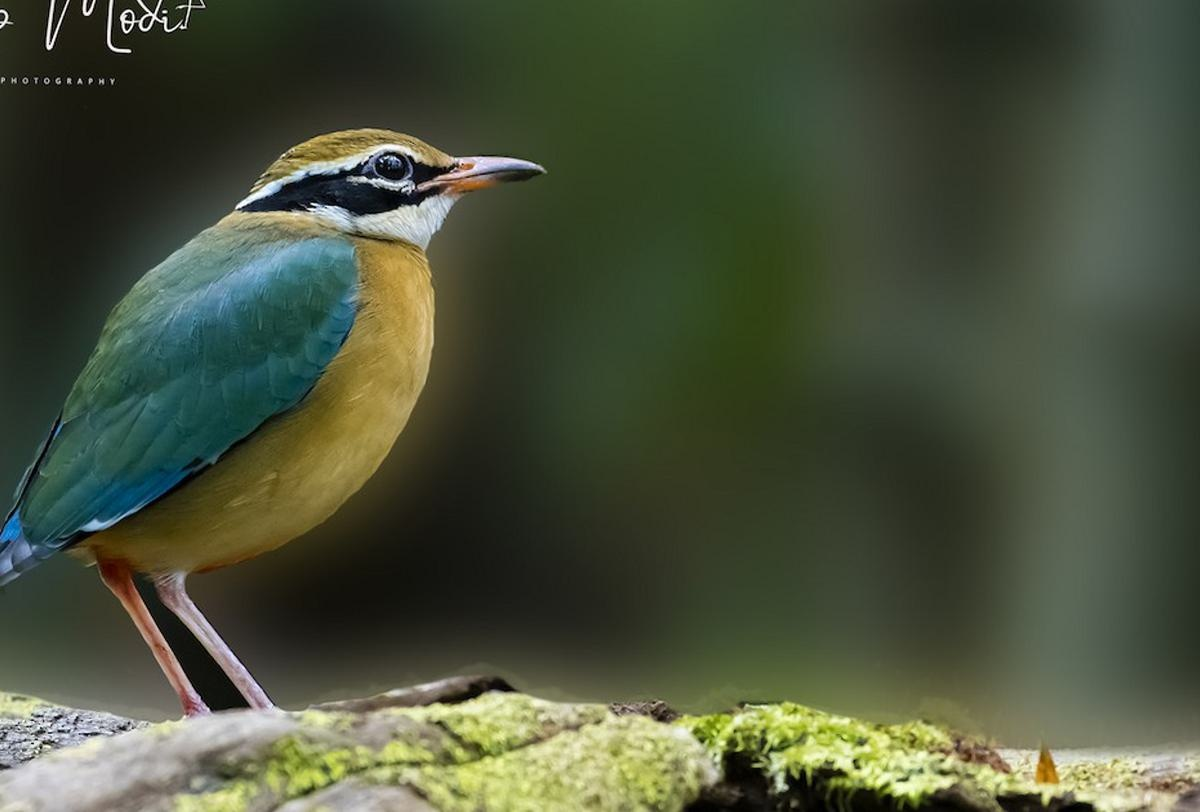pitta: (1, 108, 584, 678)
